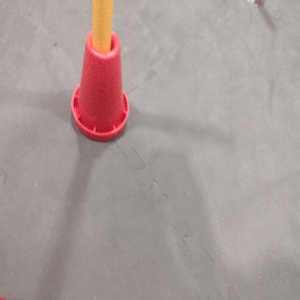Red_1: (71, 28, 129, 138)
